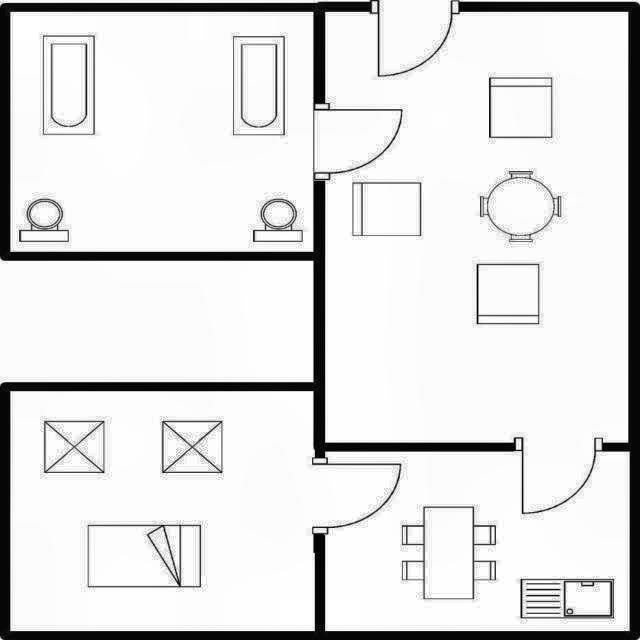room: (326, 13, 628, 443), (10, 392, 314, 631), (10, 14, 312, 251), (324, 453, 630, 631)
